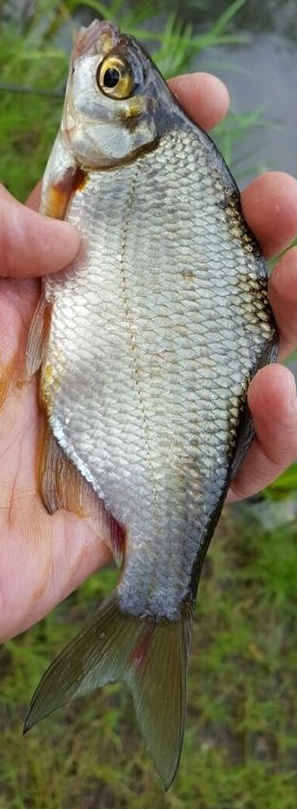Blicca bjoerkna: (20, 20, 277, 789)
